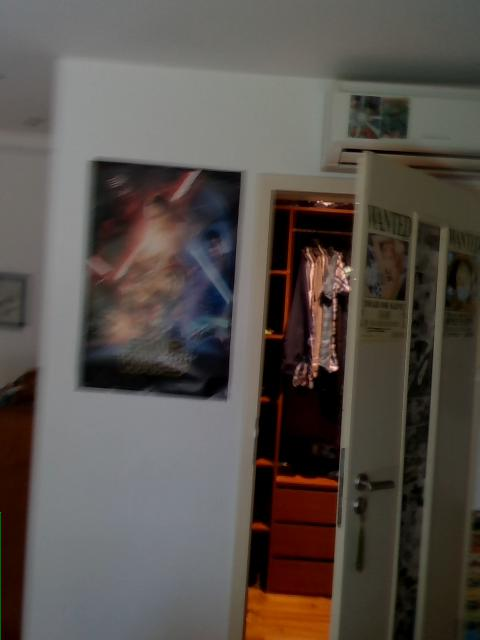semi_door: (240, 172, 479, 633)
